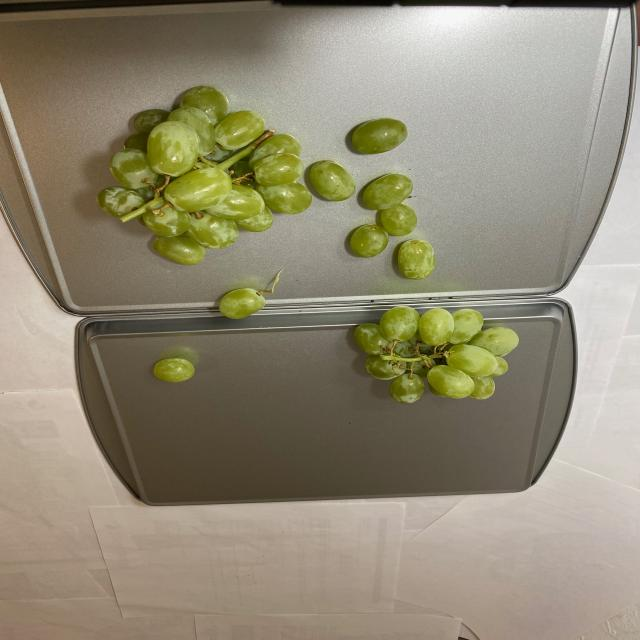Grapes: (95, 86, 434, 279), (348, 306, 522, 406), (206, 286, 278, 320), (149, 357, 201, 382)
